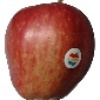apple: (6, 2, 96, 100)
